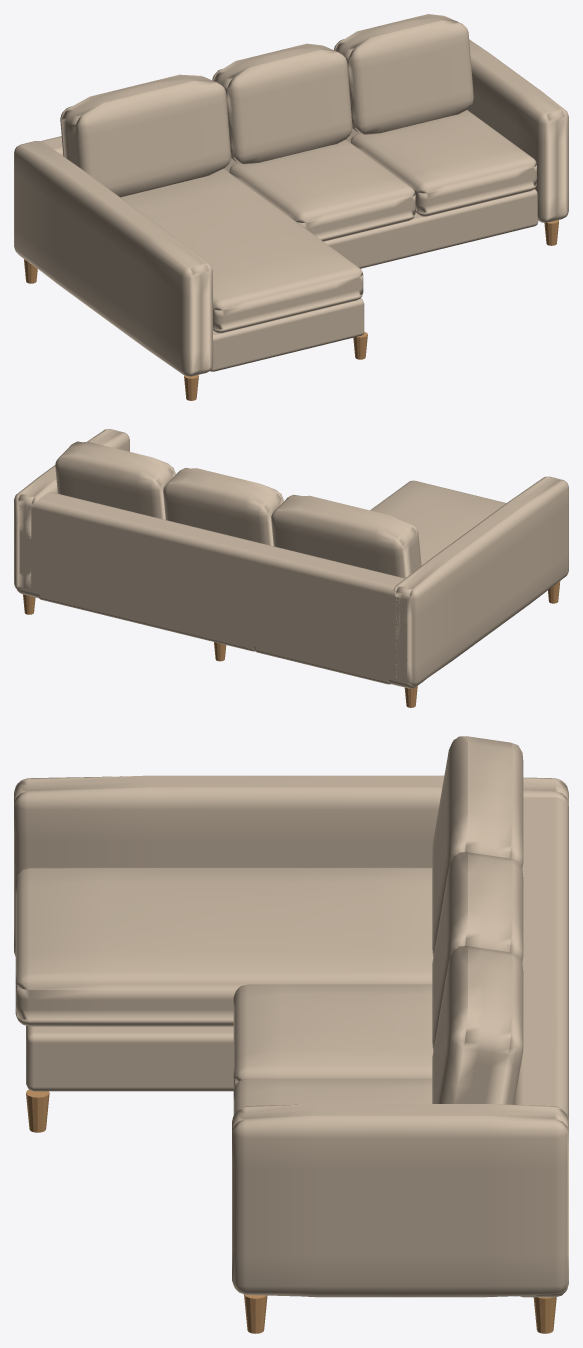
Rendered from sofa_l_left__s.glb.
The picture shows the model from 3 angles, top to bottom: view 1: azimuth 30°, elevation 25°; view 2: azimuth 150°, elevation 25°; view 3: azimuth 270°, elevation 25°; orthographic projection. The views are drawn at different scales.
Parts seen in each view (by area): view 1: sofa_l_left__s; view 2: sofa_l_left__s; view 3: sofa_l_left__s.
Part boxes in pixels (x1,y1,x2,y2): sofa_l_left__s: [14, 14, 568, 400]; sofa_l_left__s: [14, 429, 568, 707]; sofa_l_left__s: [14, 736, 568, 1333].
Size of the model in its own units: 2.1 by 0.82 by 1.4.
